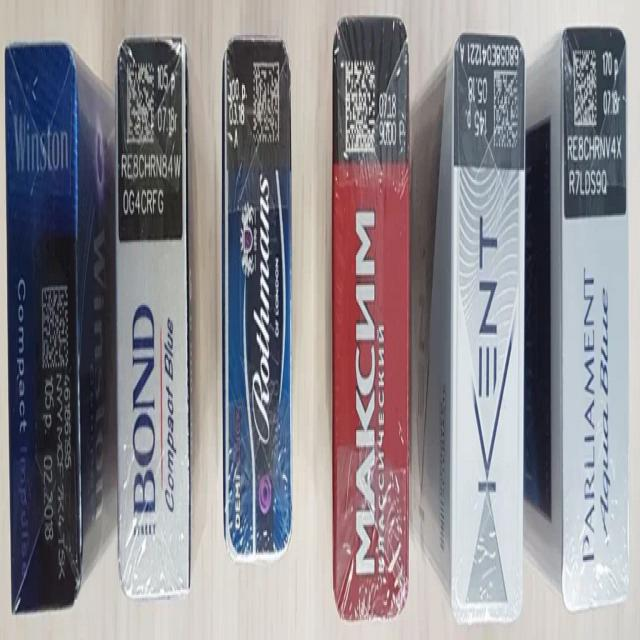datamatrix: (346, 60, 376, 154), (127, 62, 156, 144), (43, 284, 70, 371), (254, 62, 281, 145), (495, 68, 520, 153), (574, 48, 600, 128)
